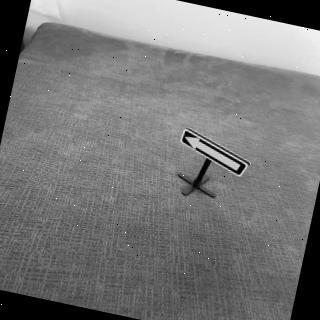sign_oneway_left: (175, 124, 258, 180)
